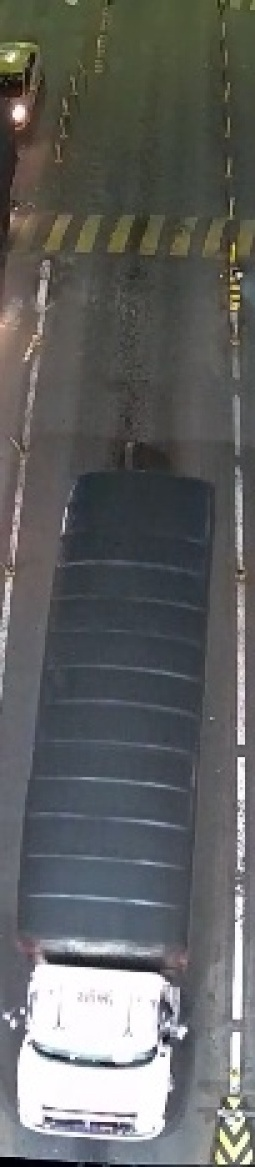car: (1, 35, 52, 142)
truck: (2, 460, 224, 1149)
